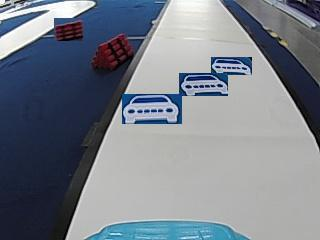bomb: (92, 30, 132, 70)
